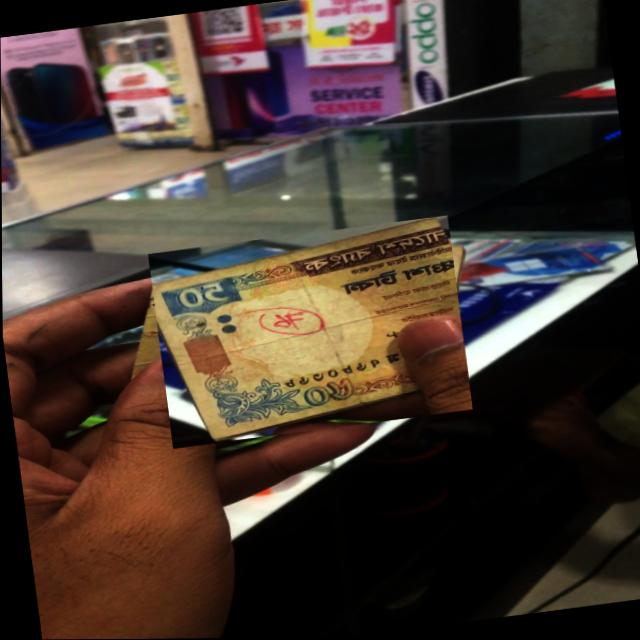Taka: (147, 215, 473, 448)
